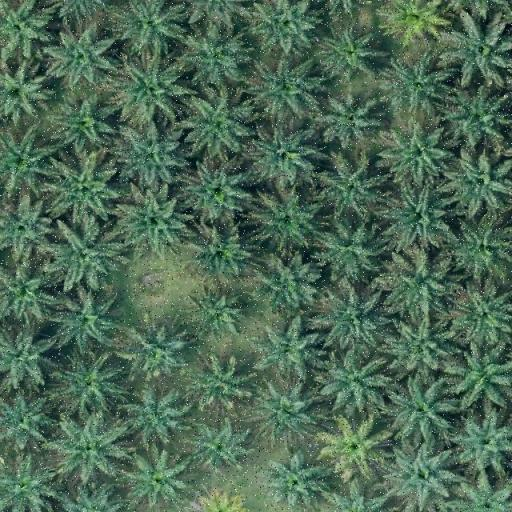Ganoderma: (334, 424, 378, 468), (398, 0, 436, 34), (193, 490, 246, 512)
